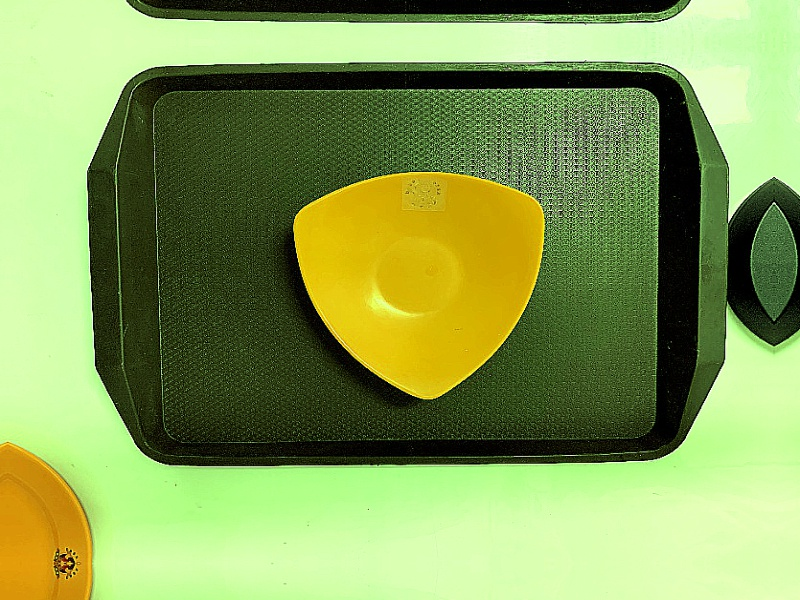dish11: (287, 165, 551, 406)
